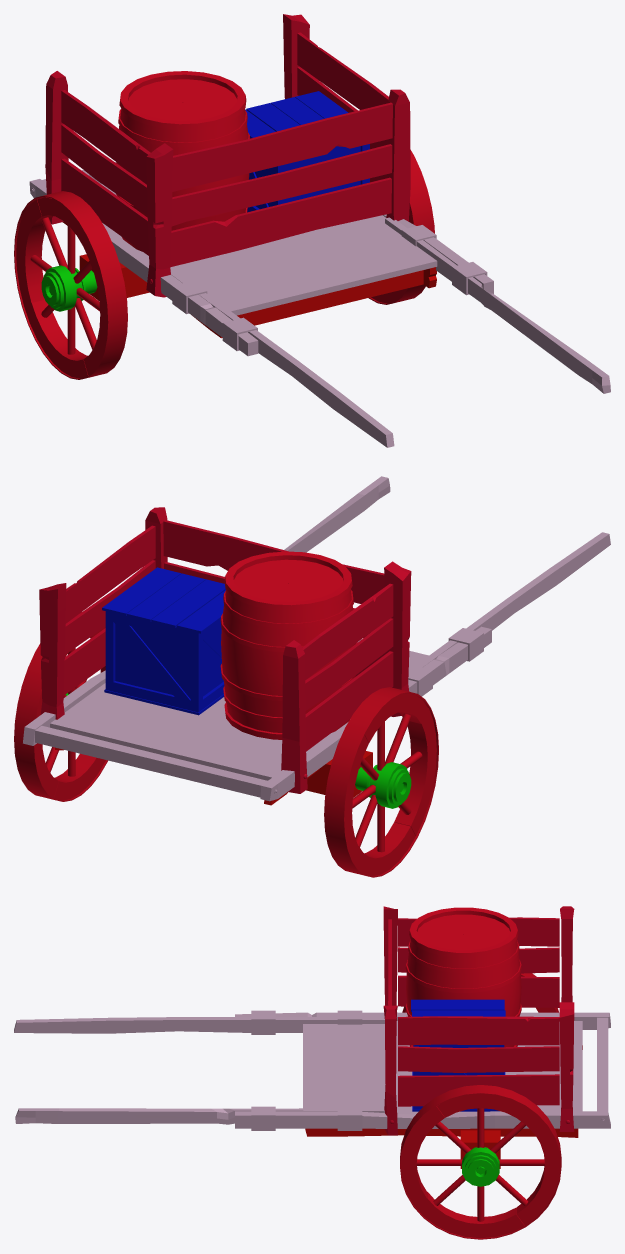
Rendered from SM_cart.fbx.
3 views of the same model, one above another, from view 1: azimuth 30°, elevation 25°; view 2: azimuth 150°, elevation 25°; view 3: azimuth 270°, elevation 25° (orthographic). The views are drawn at different scales.
Visible parts, largest first — view 1: polySurface39; view 2: polySurface39; view 3: polySurface39.
Boxes of the visible parts, bbox=[...] form: polySurface39: bbox=[14, 14, 610, 447]; polySurface39: bbox=[14, 476, 610, 877]; polySurface39: bbox=[14, 906, 610, 1239].
Size of the model in its own units: 312 by 217 by 535.
